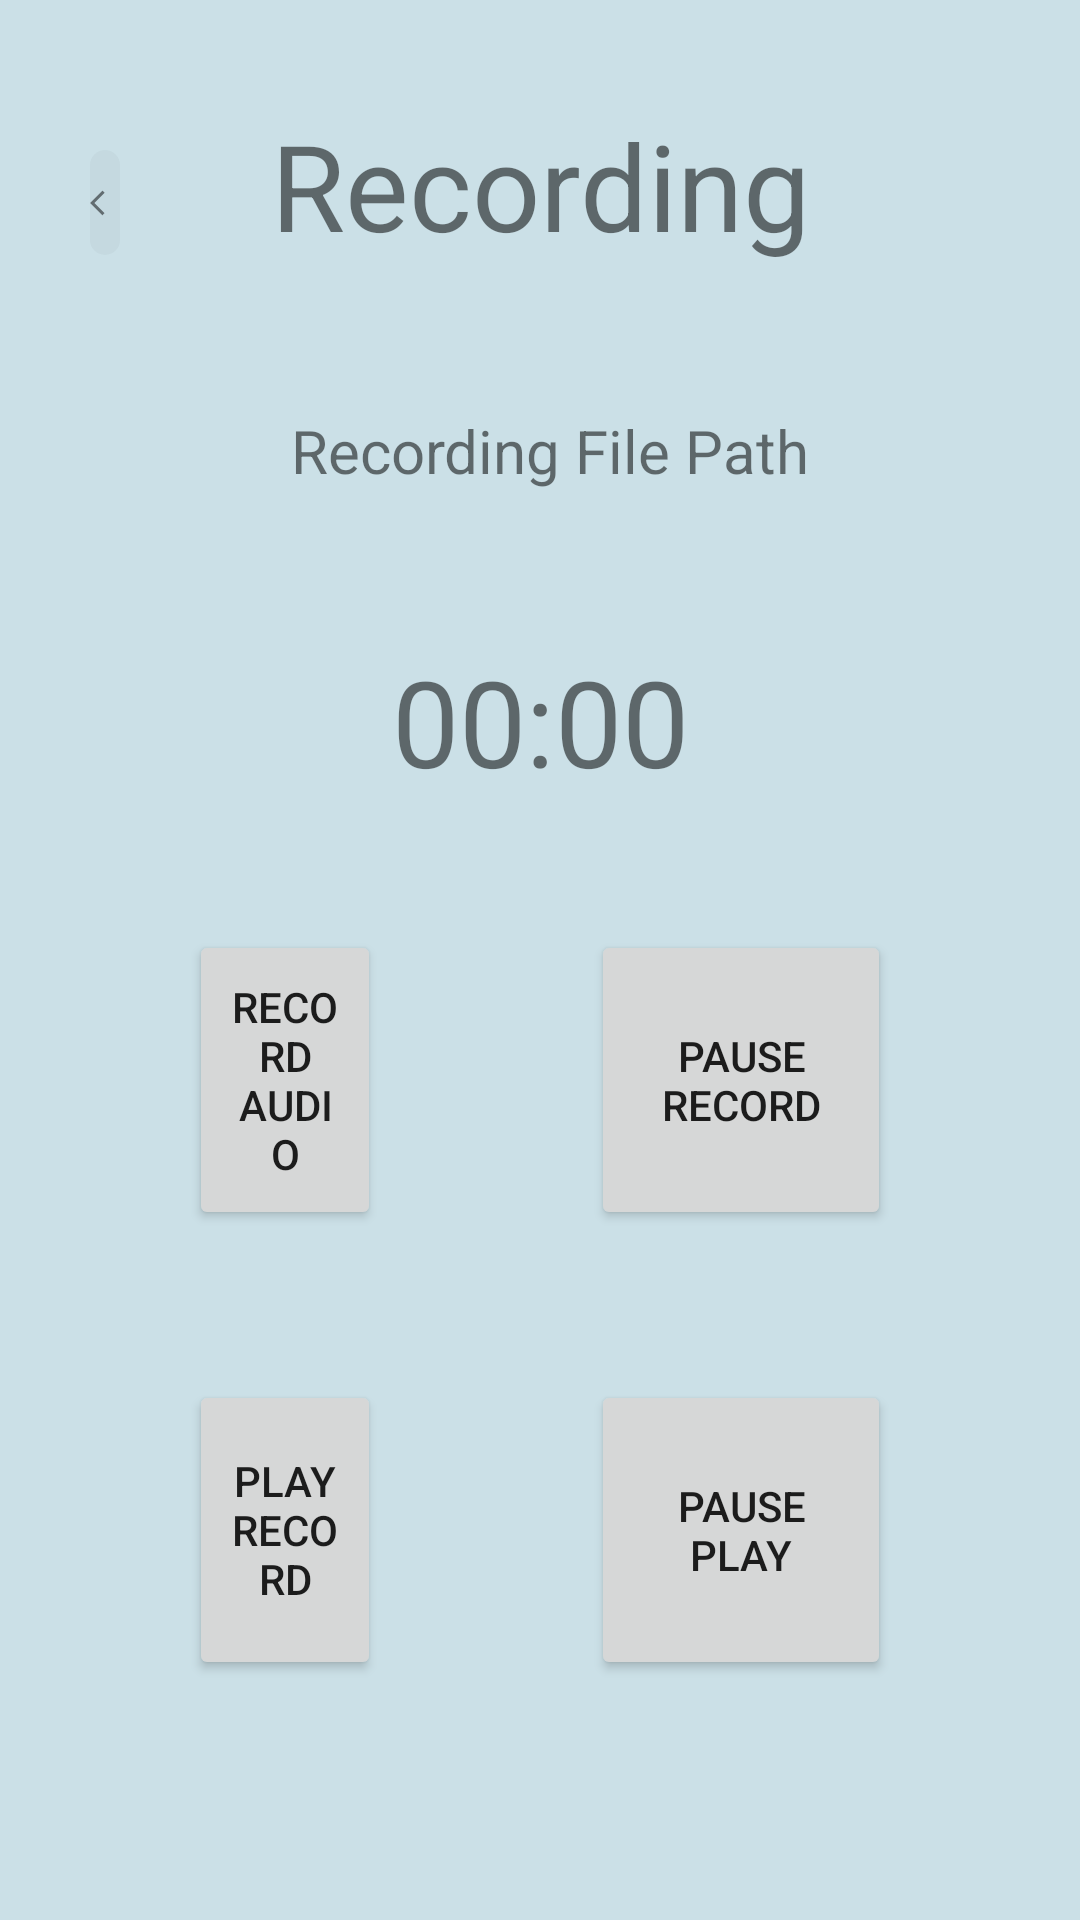

Where icons sit on this 1080px×1920px app screen, as (x1, y1, x2, y2):
back: (90, 191, 105, 215)
